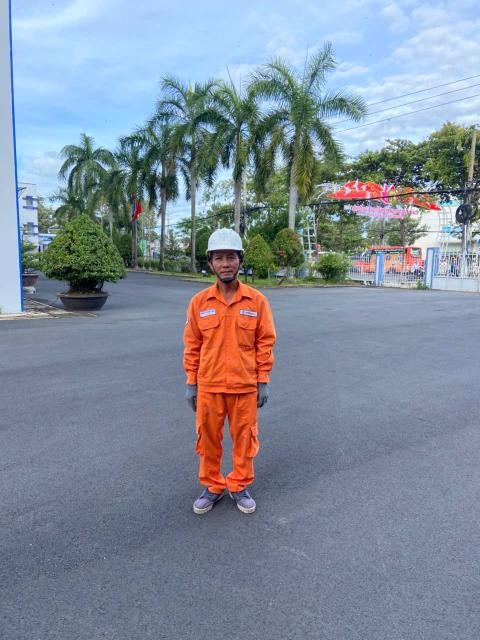harness: (178, 378, 207, 410), (249, 378, 275, 410)
helmet: (202, 225, 252, 260)
shoes: (188, 465, 229, 517), (224, 480, 261, 520)
